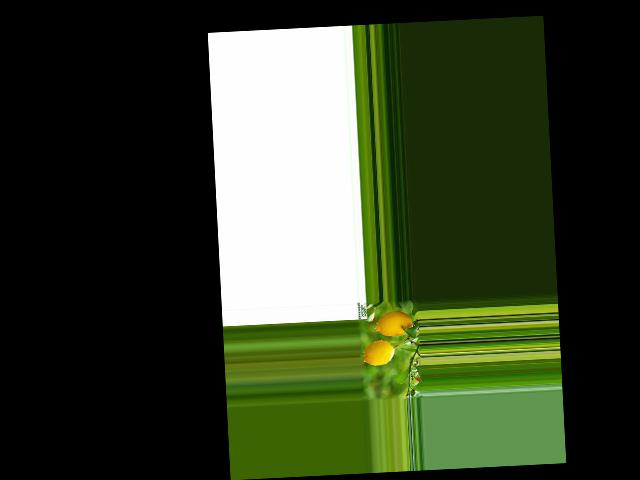lemon: (373, 308, 414, 340)
